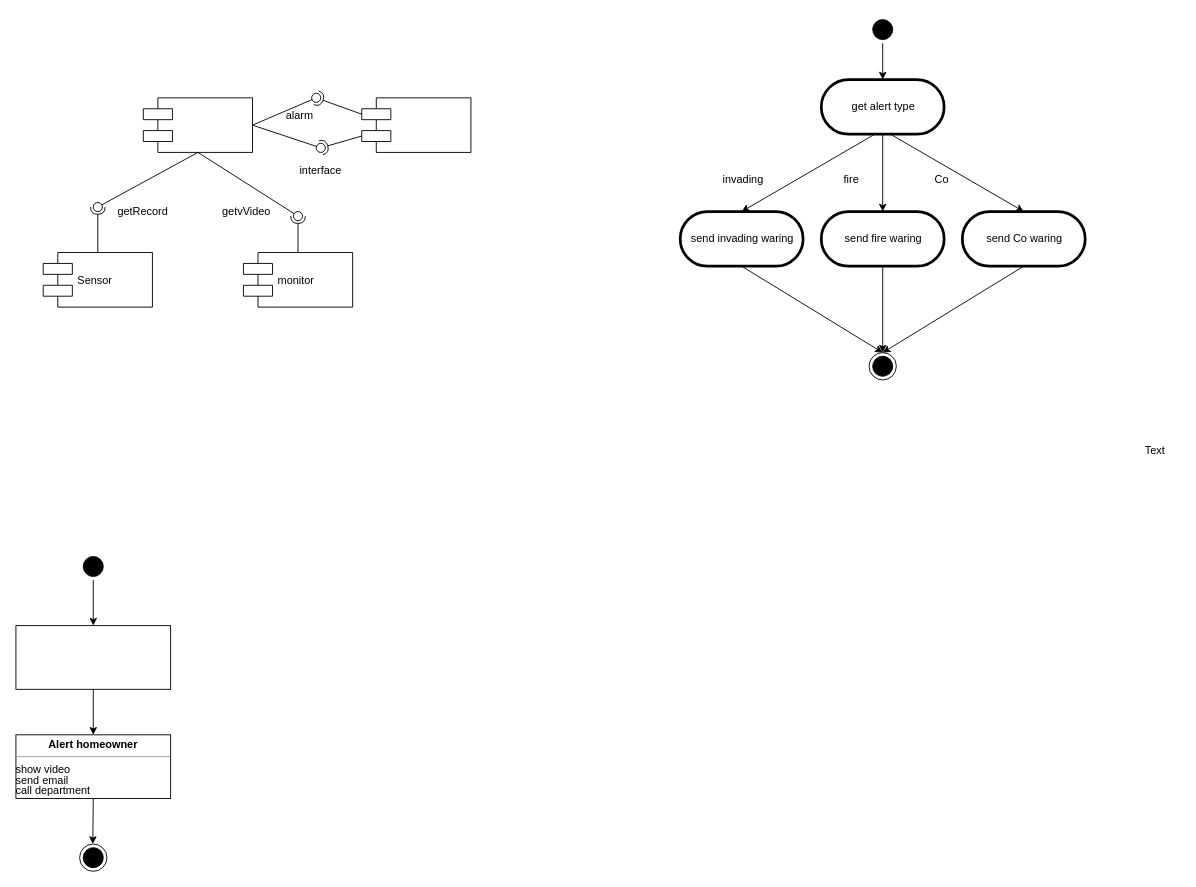
Some shapes in this 1196 by 887 pixel diagram are drawn without their labels. The centre of each missing label's shape, as x and y in pixels:
Contorl panel: the point at 416,124
set alert type alert homeowner store alert type: the point at 93,657
System: the point at 197,124
